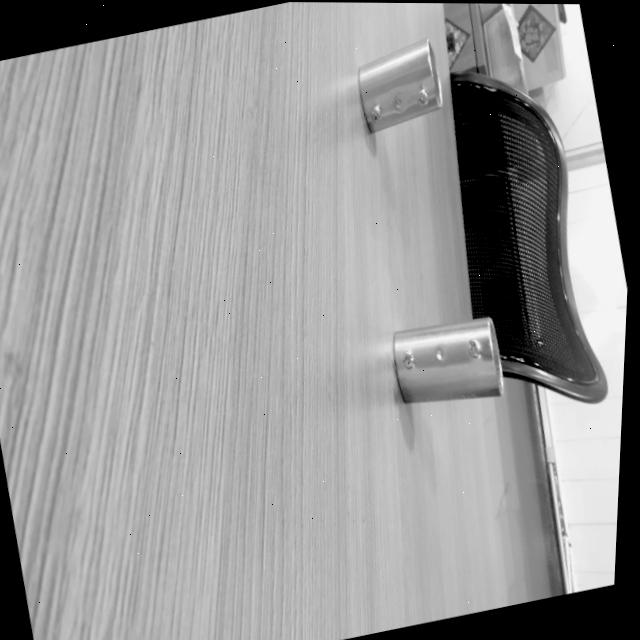Co_Lon: (389, 316, 504, 409)
Co_Nho: (346, 37, 451, 133)
